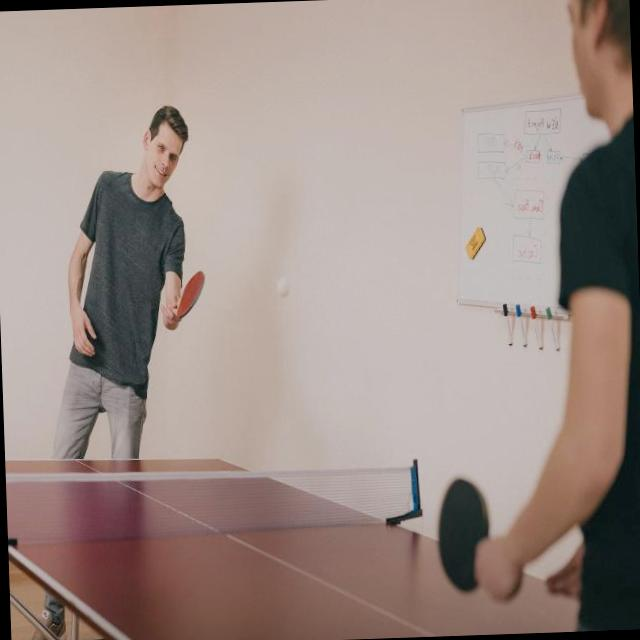person: (420, 0, 640, 635), (12, 102, 207, 640)
